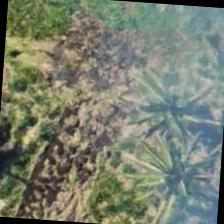Kelapa_Sawit: (116, 60, 212, 156), (128, 126, 223, 222)
